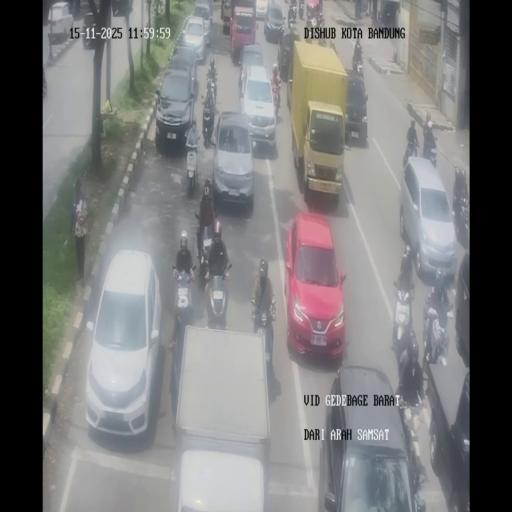car: (85, 250, 161, 437), (321, 366, 417, 511), (285, 211, 345, 360), (400, 159, 457, 278), (425, 359, 469, 507), (211, 112, 255, 210), (155, 65, 197, 150), (238, 62, 277, 150), (455, 251, 470, 363), (345, 72, 368, 144), (182, 16, 209, 63), (47, 2, 74, 44), (278, 28, 298, 82), (264, 2, 286, 43), (82, 10, 99, 50), (194, 3, 210, 21), (255, 0, 269, 20)
motorcycle: (204, 260, 231, 330), (391, 283, 415, 359), (252, 294, 277, 366), (422, 304, 449, 370), (171, 264, 197, 331), (452, 190, 470, 249), (196, 222, 215, 273), (184, 141, 199, 193), (201, 101, 215, 147), (403, 136, 419, 169), (304, 5, 322, 30), (271, 78, 281, 118), (424, 138, 438, 166), (206, 73, 218, 105), (352, 52, 364, 77), (288, 2, 297, 22), (42, 66, 47, 98), (298, 1, 304, 20)
truck: (172, 324, 270, 508), (290, 40, 348, 200), (229, 1, 257, 64), (220, 0, 233, 34)
